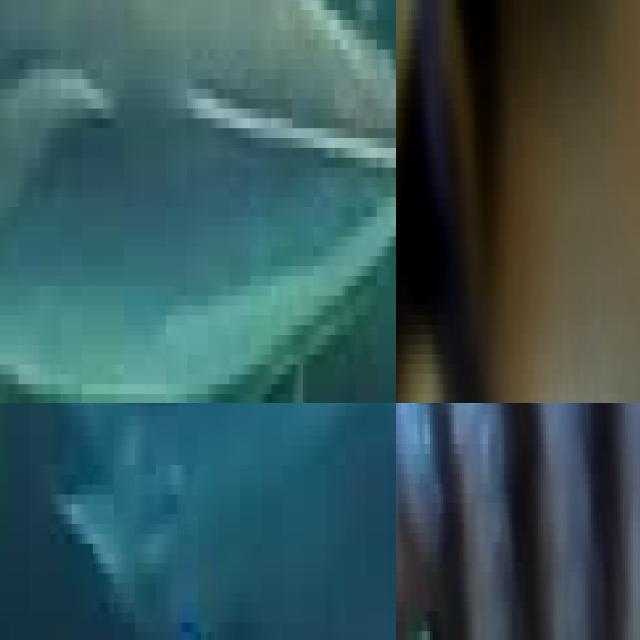fish: (0, 0, 396, 403), (396, 403, 640, 640)
